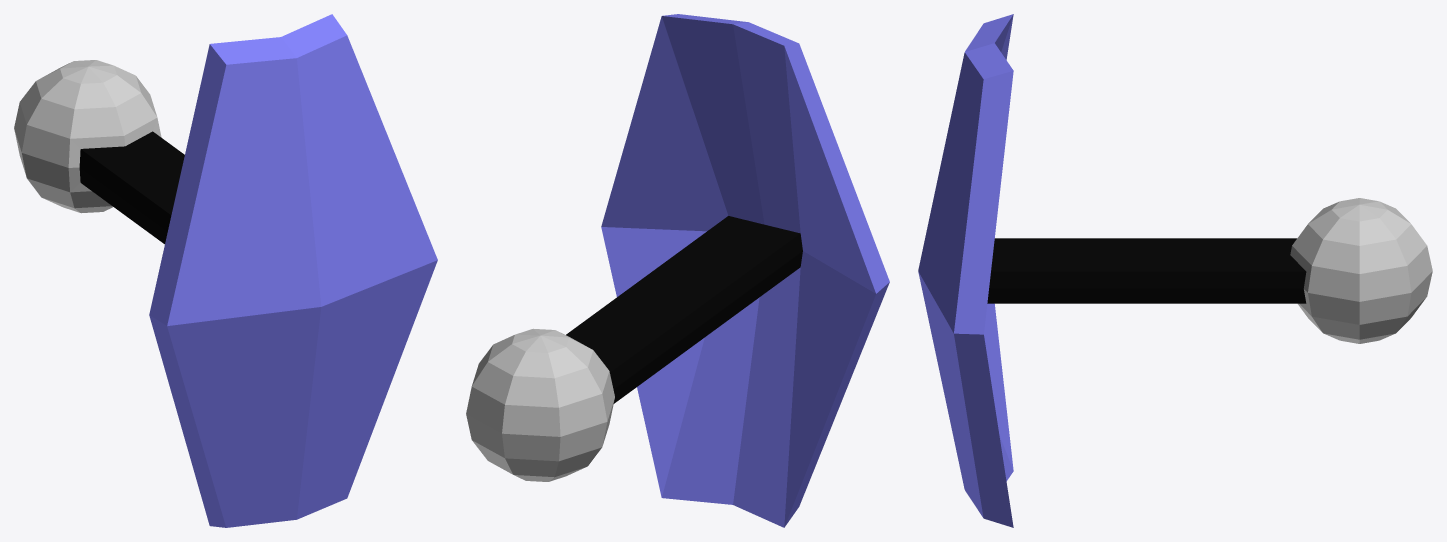
The model's file is anim3.obj.
3 views of the same model, side by side, from view 1: azimuth 30°, elevation 25°; view 2: azimuth 150°, elevation 25°; view 3: azimuth 270°, elevation 25° (orthographic). The views are drawn at different scales.
Parts seen in each view (by area): view 1: Sphere; view 2: Sphere; view 3: Sphere.
Boxes of the visible parts, left/top/right/bottom form: Sphere: left=14, top=14, right=437, bottom=527; Sphere: left=466, top=14, right=889, bottom=527; Sphere: left=918, top=14, right=1432, bottom=527.
Bounding box in the file's own units: 4.11 × 6.89 × 7.03.
